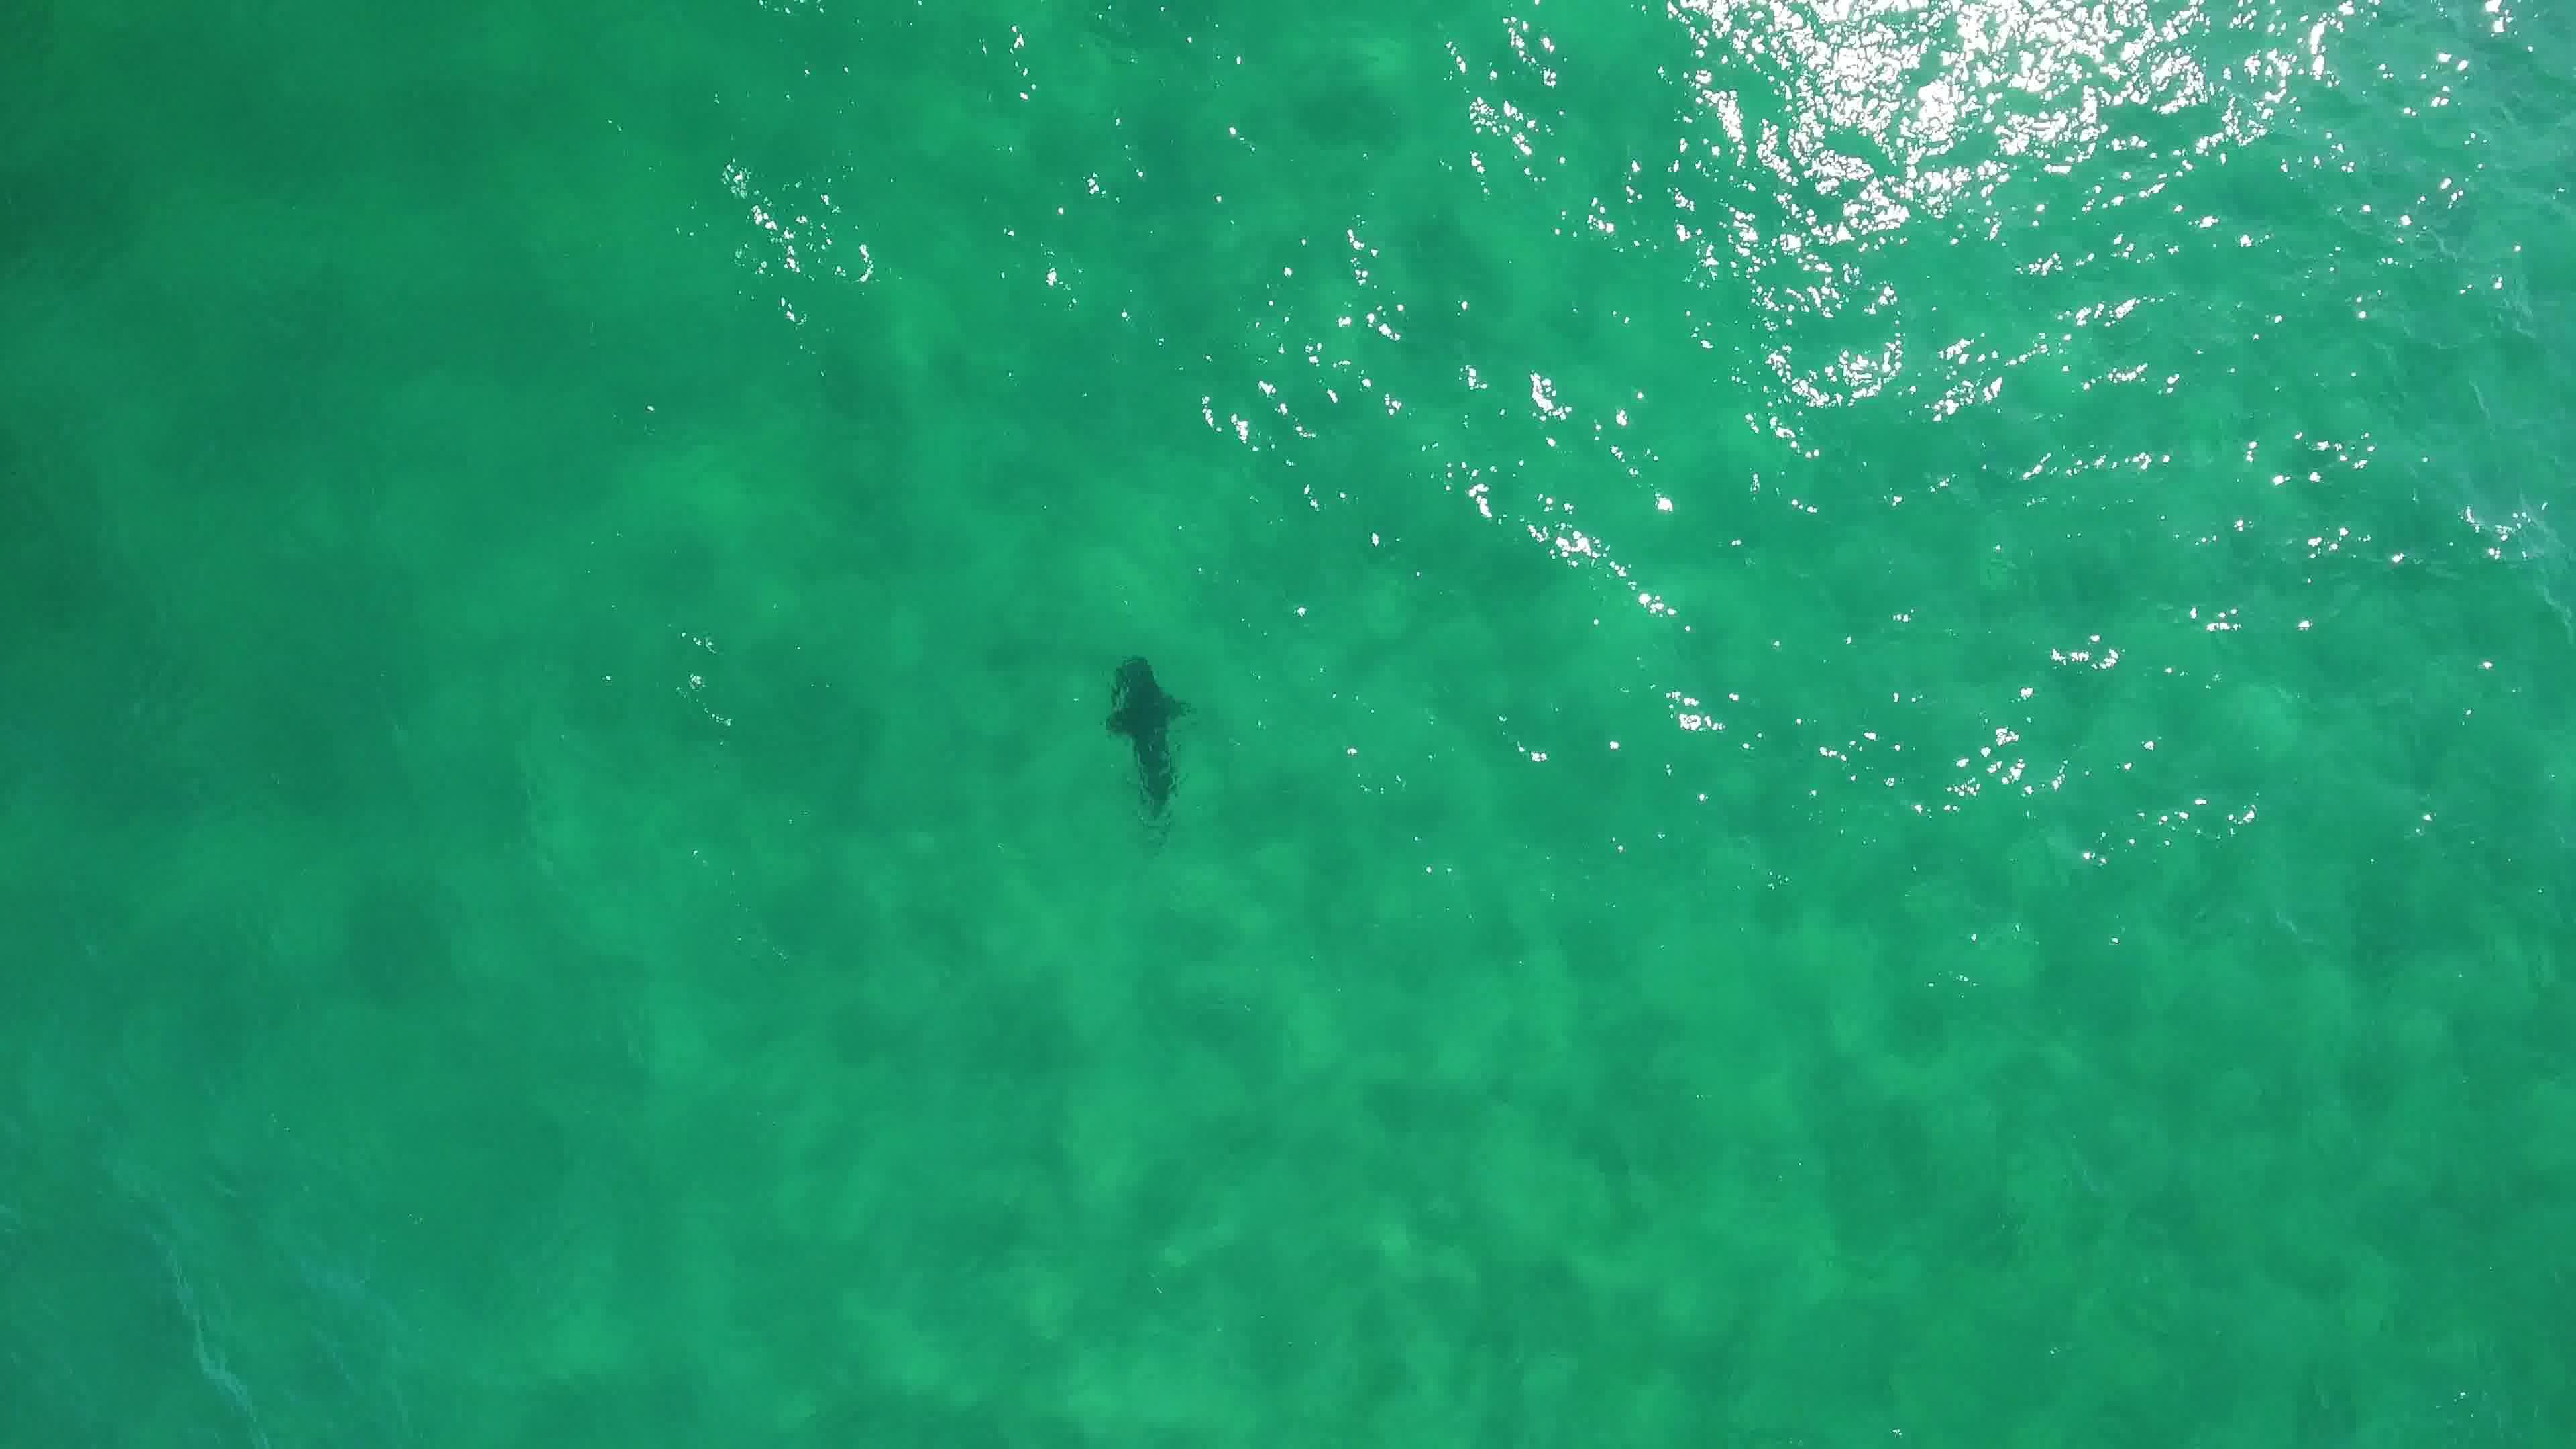shark: (1093, 649, 1200, 832)
